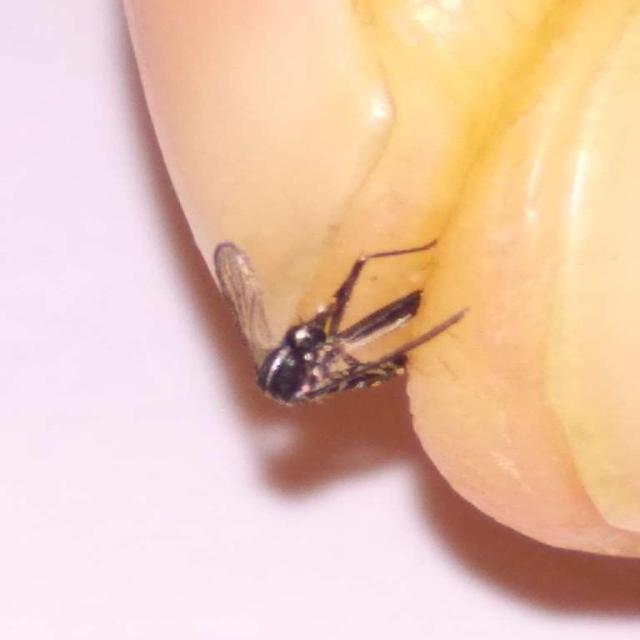albopictus: (219, 208, 478, 410)
